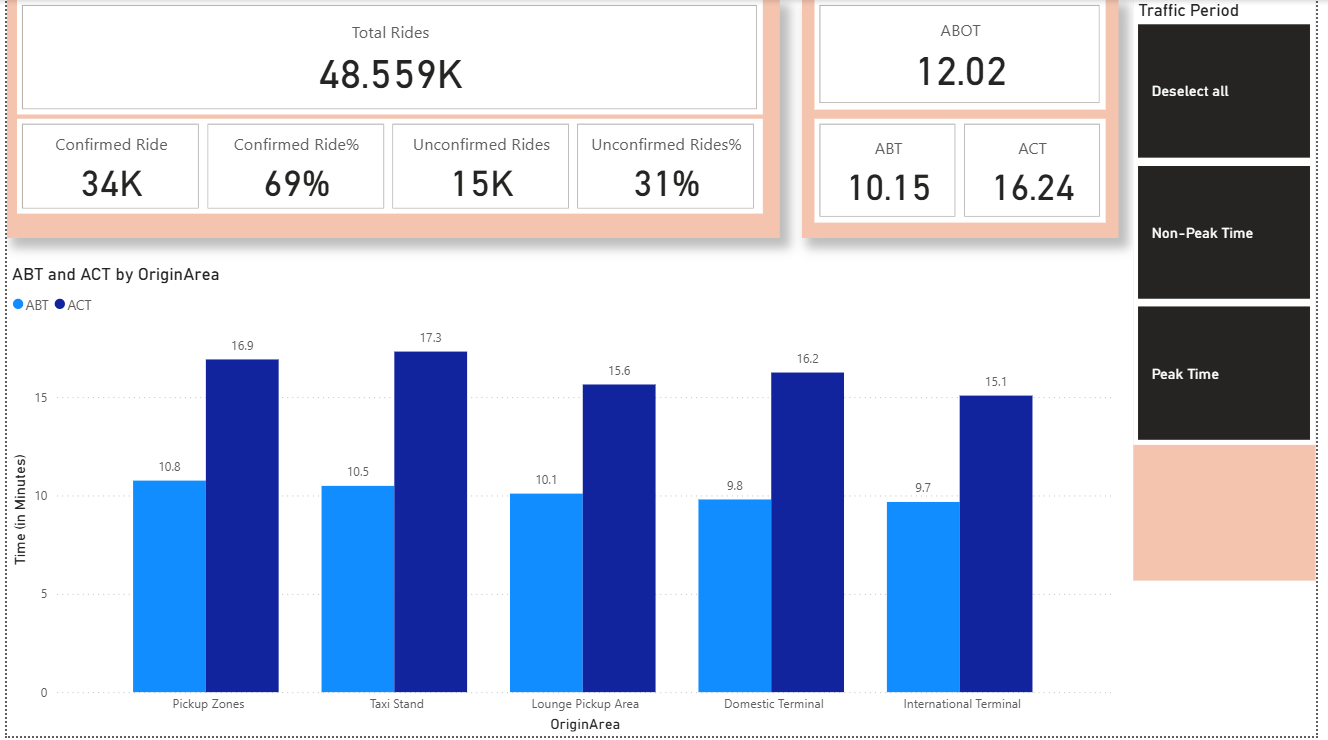

What the dashboard file says about the page in this screenshot:
{"tool":"powerbi","page":{"name":"Overall Dashboard","canvas":[1280,720],"ordinal":0},"visuals":[{"type":"textbox","box":[0,0,755.8,232.8],"z":0},{"type":"textbox","box":[777.8,0,309.5,232.8],"z":1000},{"type":"textbox","box":[1102.3,0,178,568.3],"z":2000},{"type":"cardVisual","fields":{"Data":["_Measure.Total Rides"]},"box":[9.6,0,729.8,112.3],"z":3000},{"type":"cardVisual","fields":{"Data":["_Measure.ABOT"]},"box":[790.1,0,284.8,106.8],"z":4000},{"type":"cardVisual","fields":{"Data":["_Measure.Confirmed Ride","_Measure.Confirmed Ride%","_Measure.Unconfirmed Rides","_Measure.Unconfirmed Rides%"]},"box":[9.6,116.4,729.8,93.1],"z":5000},{"type":"cardVisual","fields":{"Data":["_Measure.ABT","_Measure.ACT"]},"box":[790.1,116.4,284.8,101.3],"z":6000},{"type":"advancedSlicerVisual","fields":{"Values":["CabRidersTable.Traffic Period"]},"box":[1102.3,0,178,435.4],"z":7000},{"type":"clusteredColumnChart","fields":{"Y":["_Measure.ABT","_Measure.ACT"],"Category":["CabRidersTable.OriginArea"]},"box":[0,257.4,1087.2,462.8],"z":8000}]}

Visuals, with their boxes in screenshot pixels (x1, y1, x2, y2), scaled from the page's 1280x720 canvas onto the 1328x740 screenshot:
textbox: (0,0,784,239)
textbox: (807,0,1128,239)
textbox: (1144,0,1327,584)
cardVisual - _Measure.Total Rides: (10,0,767,115)
cardVisual - _Measure.ABOT: (820,0,1115,110)
cardVisual - _Measure.Confirmed Ride x _Measure.Confirmed Ride%: (10,120,767,215)
cardVisual - _Measure.ABT x _Measure.ACT: (820,120,1115,224)
advancedSlicerVisual - CabRidersTable.Traffic Period: (1144,0,1327,447)
clusteredColumnChart - _Measure.ABT x _Measure.ACT: (0,265,1128,739)
